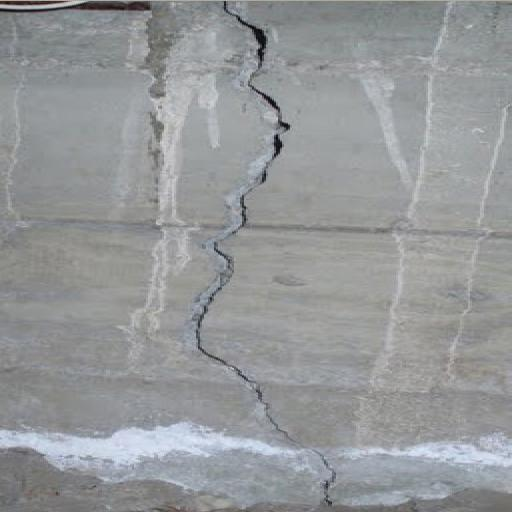spalling: (190, 256, 308, 450), (222, 0, 264, 65), (202, 194, 244, 256), (312, 451, 336, 497), (260, 137, 280, 184), (252, 87, 280, 115), (276, 117, 288, 132)
